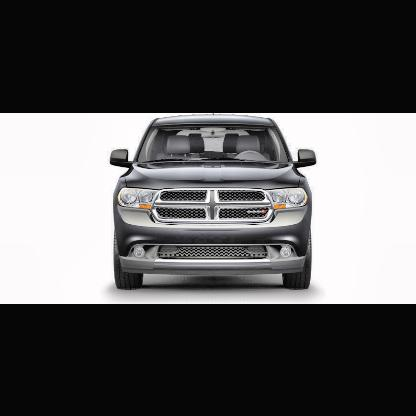Dodge Durango SUV 2012: (109, 114, 320, 293)
